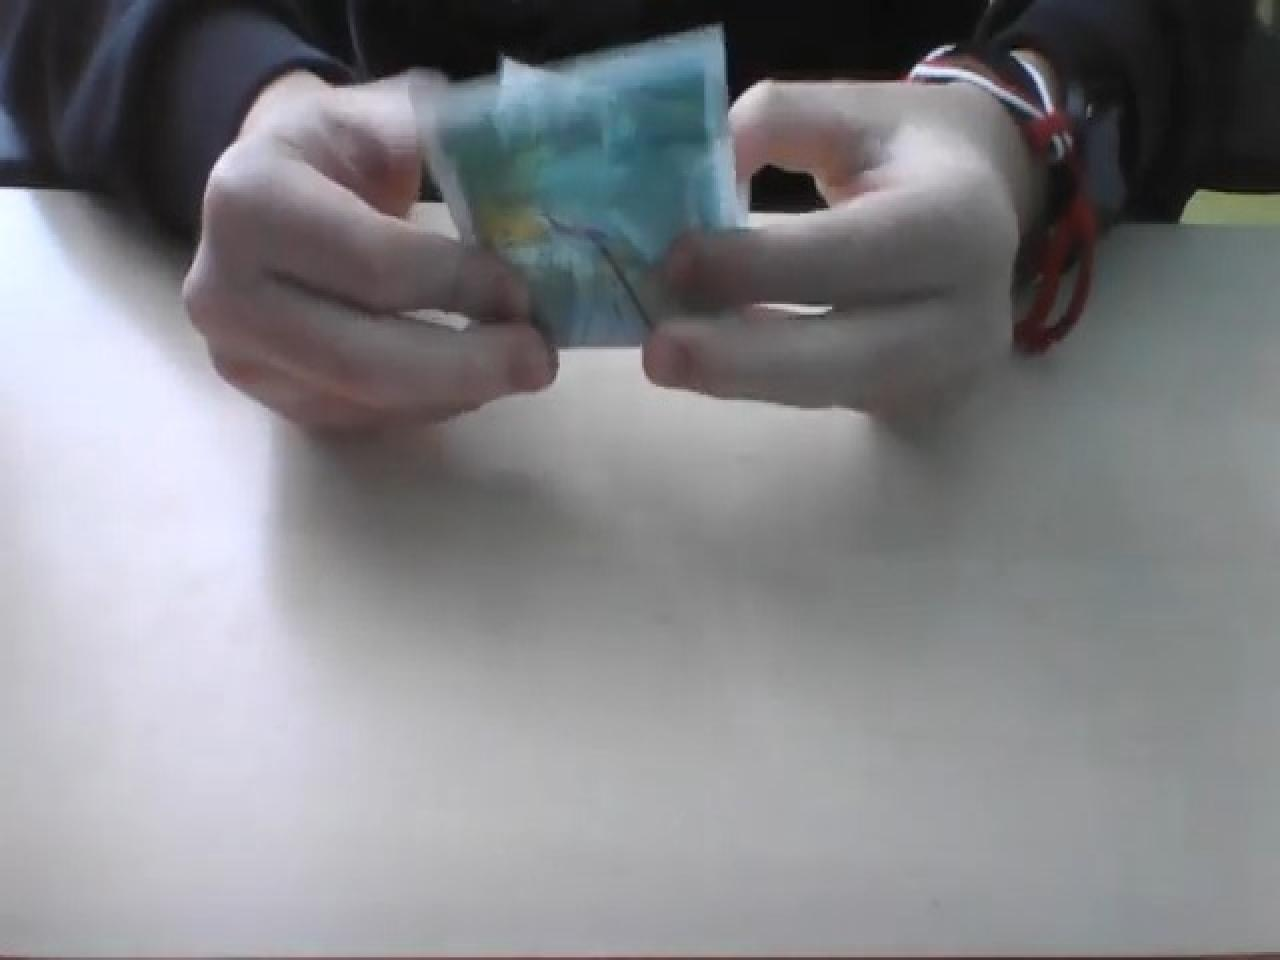100leva: (420, 24, 748, 352)
